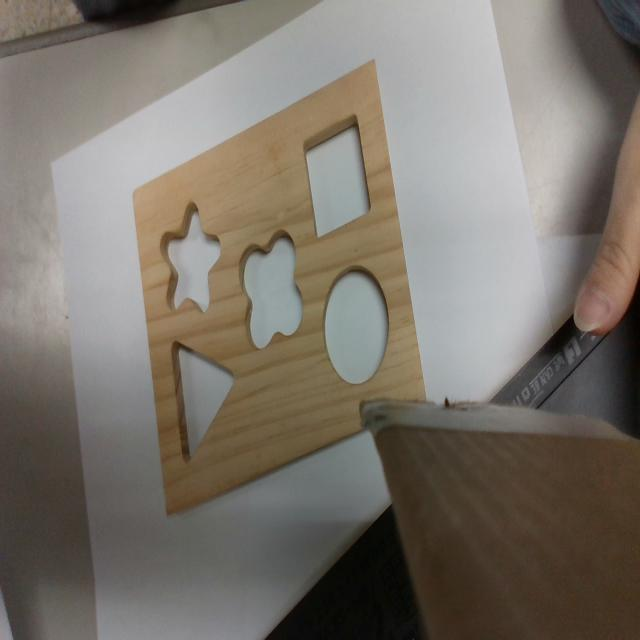circle: (322, 269, 390, 384)
flower: (238, 230, 302, 351)
square: (303, 117, 370, 237)
star: (159, 198, 219, 315)
triangle: (169, 339, 237, 464)
